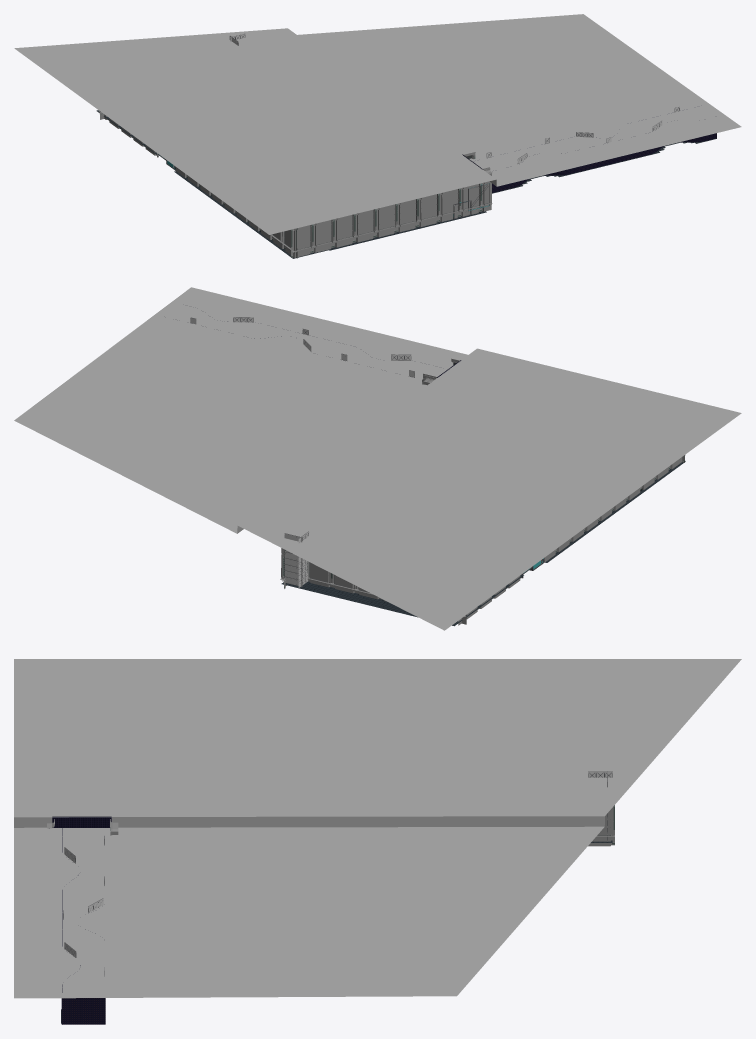
File: Stage1(4).fbx
3 renders of one model, top to bottom at view 1: azimuth 30°, elevation 25°; view 2: azimuth 150°, elevation 25°; view 3: azimuth 270°, elevation 25°, orthographic. The views are drawn at different scales.
Parts seen in each view (by area): view 1: 1000jang, Staged1, Badack; view 2: 1000jang, Staged1, Badack; view 3: 1000jang, Staged1.
Part boxes in pixels (x1,y1,x2,y2): 1000jang: (14,14,741,234); Staged1: (99,33,716,258); Badack: (96,110,716,258); 1000jang: (14,287,741,630); Staged1: (190,317,685,625); Badack: (281,461,685,626); 1000jang: (14,659,741,998); Staged1: (47,771,614,1024).
Bounding box in the file's own units: 61219 × 5699 × 57247.
